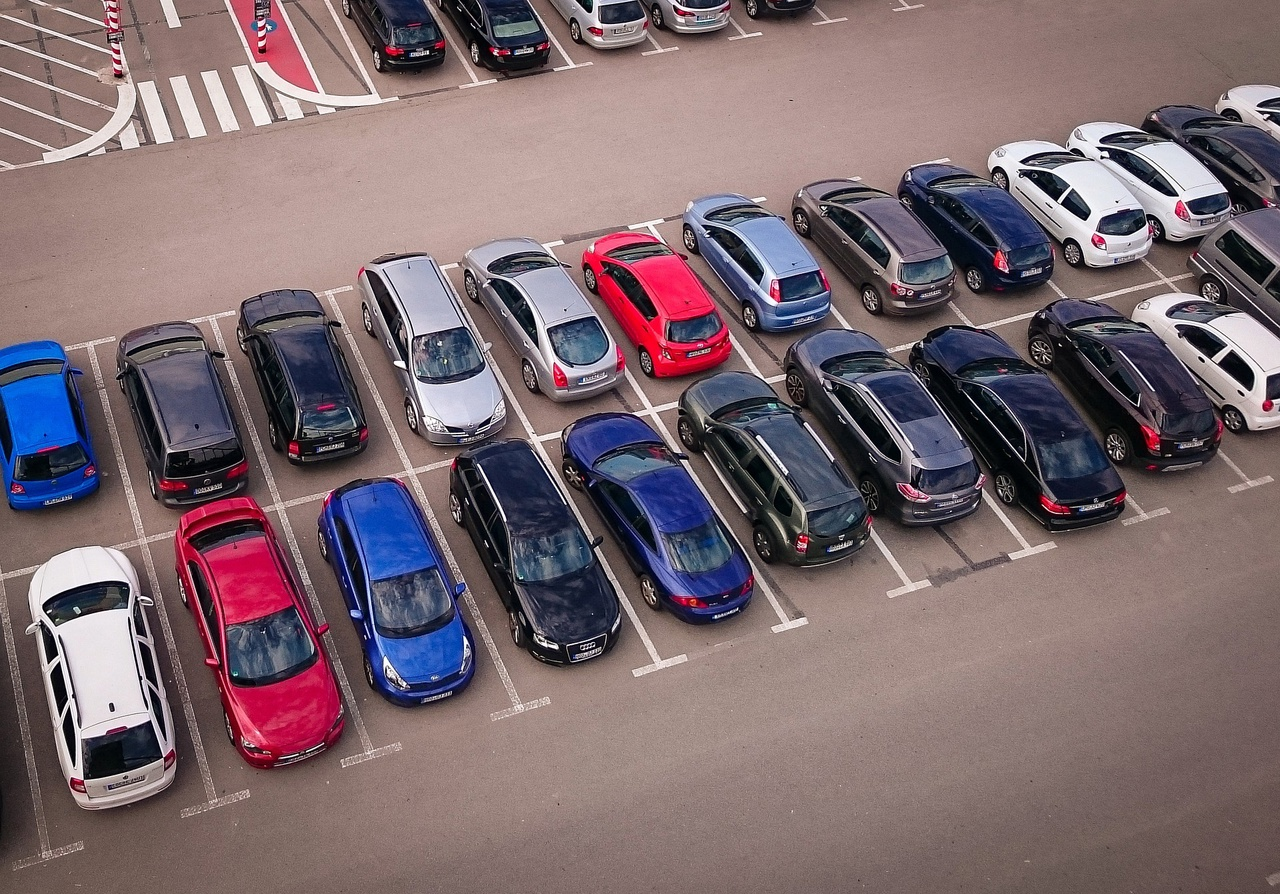Car: (175, 495, 345, 768), (909, 325, 1126, 530), (561, 412, 754, 624), (26, 546, 178, 810), (784, 329, 987, 526), (449, 438, 622, 665), (677, 372, 871, 566), (317, 477, 476, 706), (1028, 299, 1223, 471), (358, 252, 508, 447), (461, 238, 626, 402), (116, 322, 249, 508), (236, 290, 369, 464), (791, 179, 956, 315), (581, 233, 731, 378), (987, 140, 1152, 268), (1131, 293, 1280, 434), (682, 194, 831, 333), (898, 164, 1055, 293), (1067, 122, 1231, 241), (0, 341, 100, 510), (1141, 105, 1280, 216), (1186, 208, 1280, 338), (437, 0, 551, 72), (342, 0, 445, 72), (550, 0, 648, 49), (1215, 85, 1280, 144), (641, 0, 730, 34), (742, 0, 816, 19)
